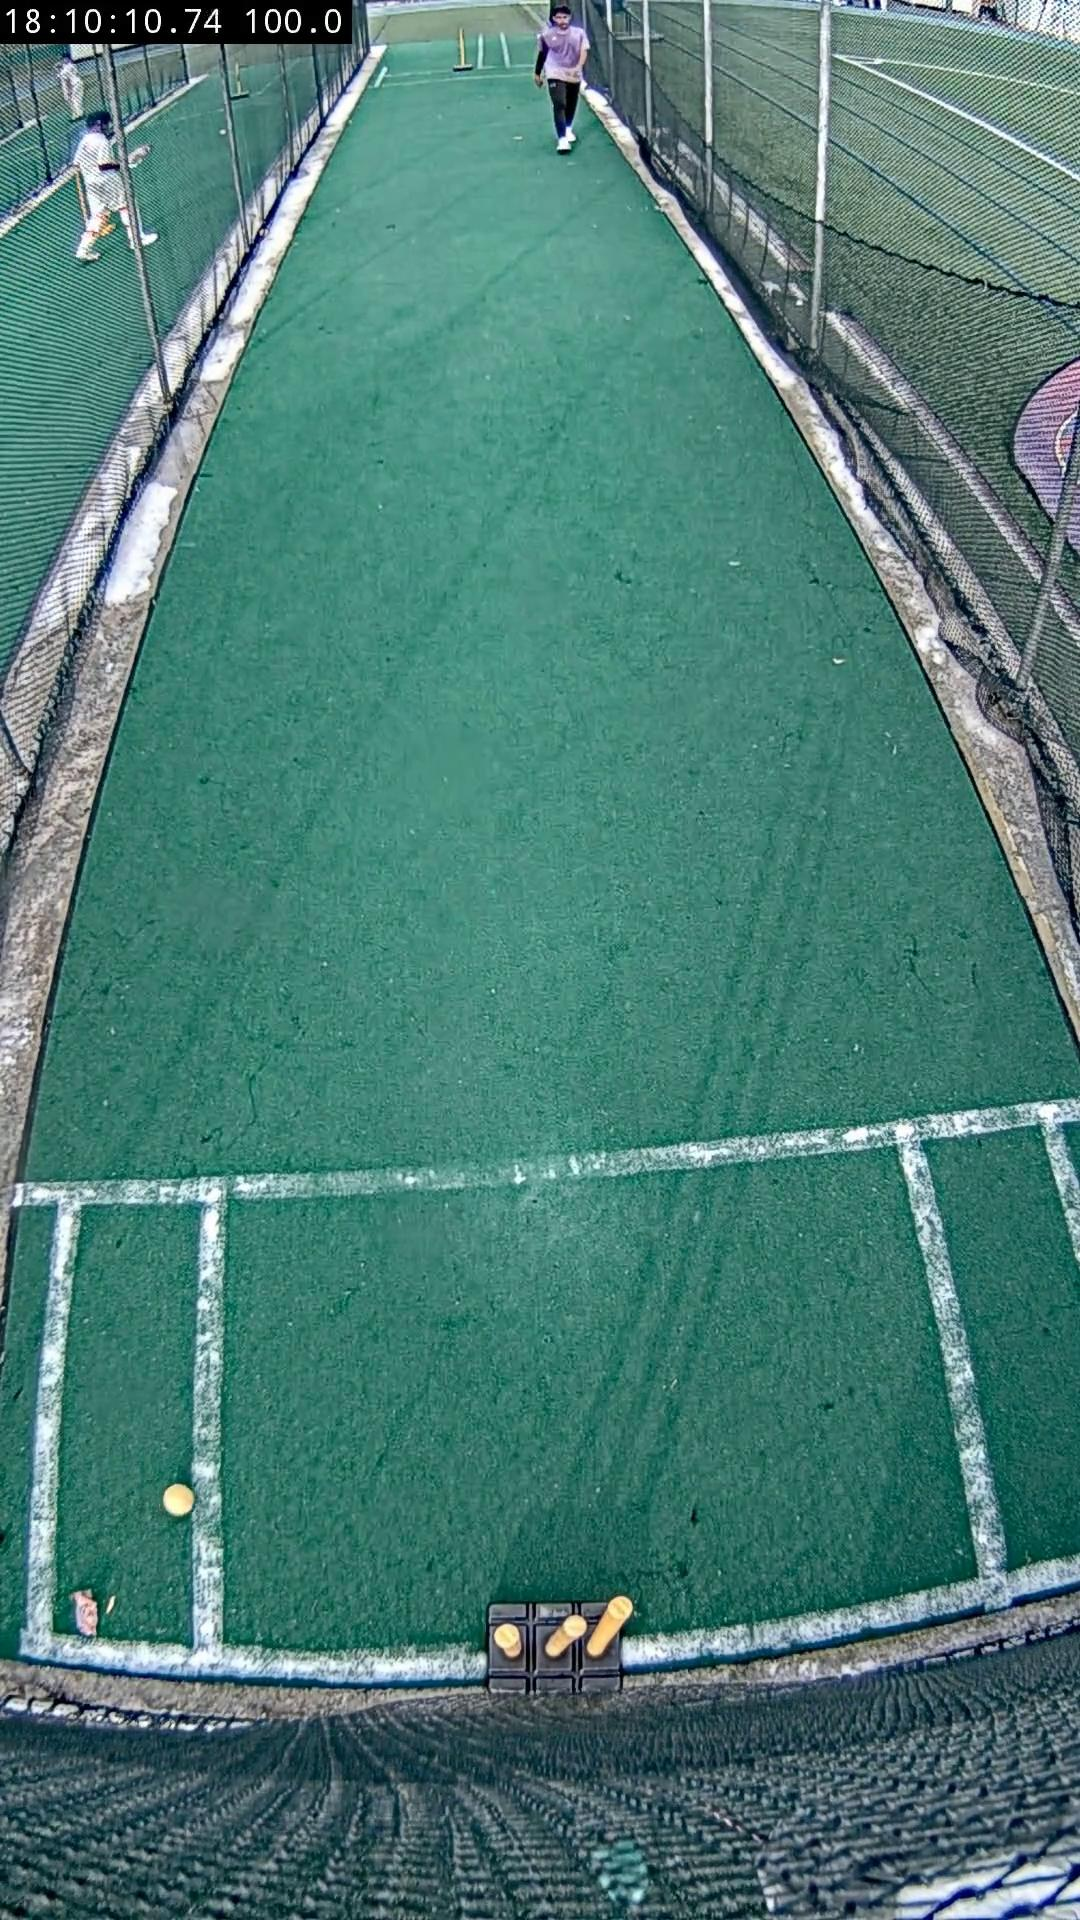ball: (161, 1485, 195, 1515)
stumps: (488, 1594, 634, 1695)
